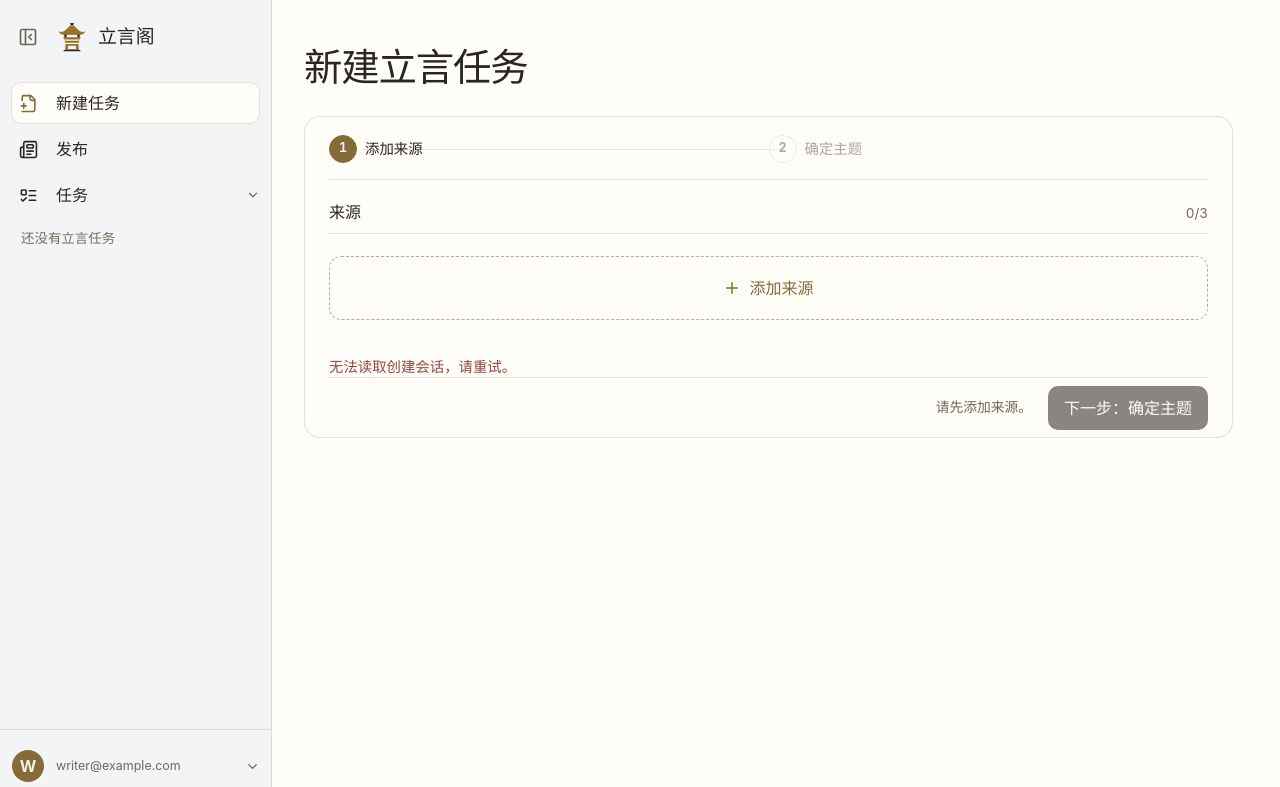
Test case: a session that outlives its access token › signs each request with the session's current token, not sign-in's
Check: the navigation bar named "主导航" is shown, box x1=0 y1=74 x2=271 y2=174
Click the link "发布". click: click(53, 149)
box: x1=18 y1=139 x2=88 y2=159
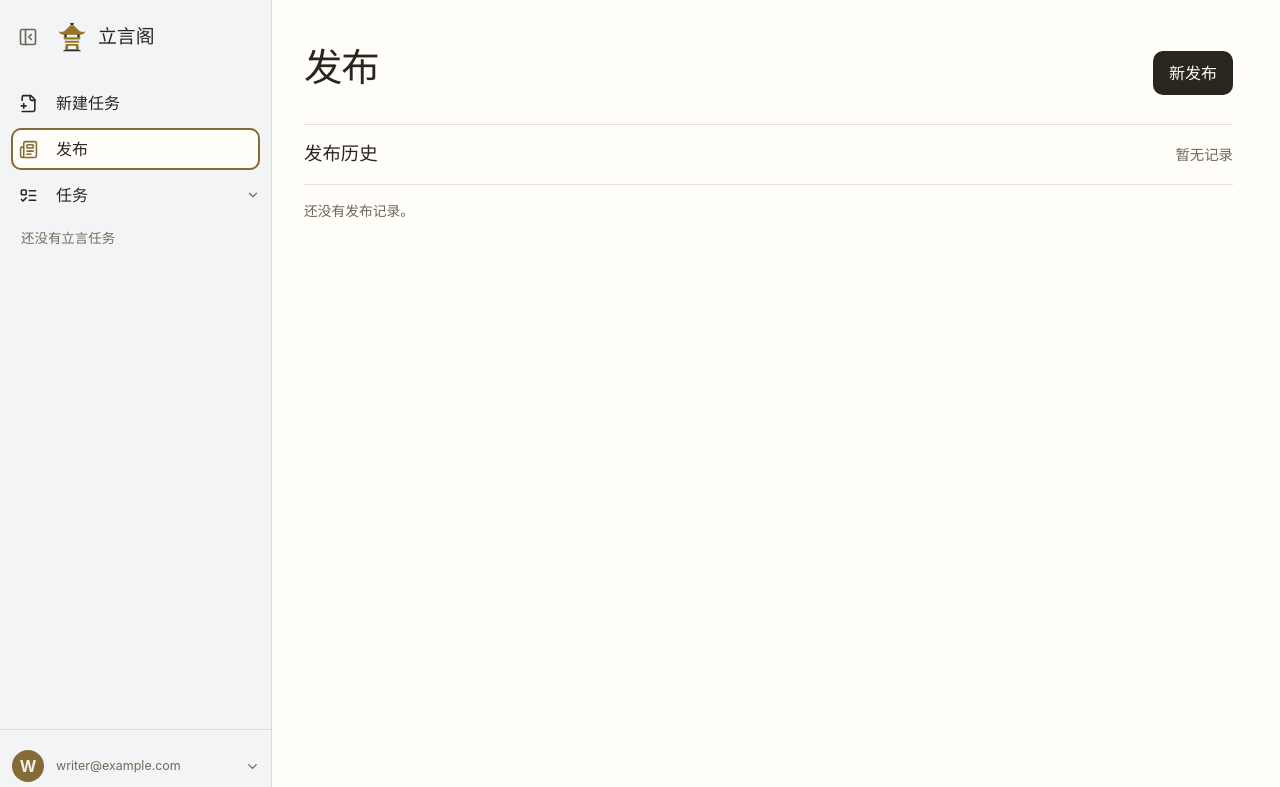
Click the button "新发布". click: click(1193, 73)
box: x1=1153 y1=51 x2=1233 y2=95
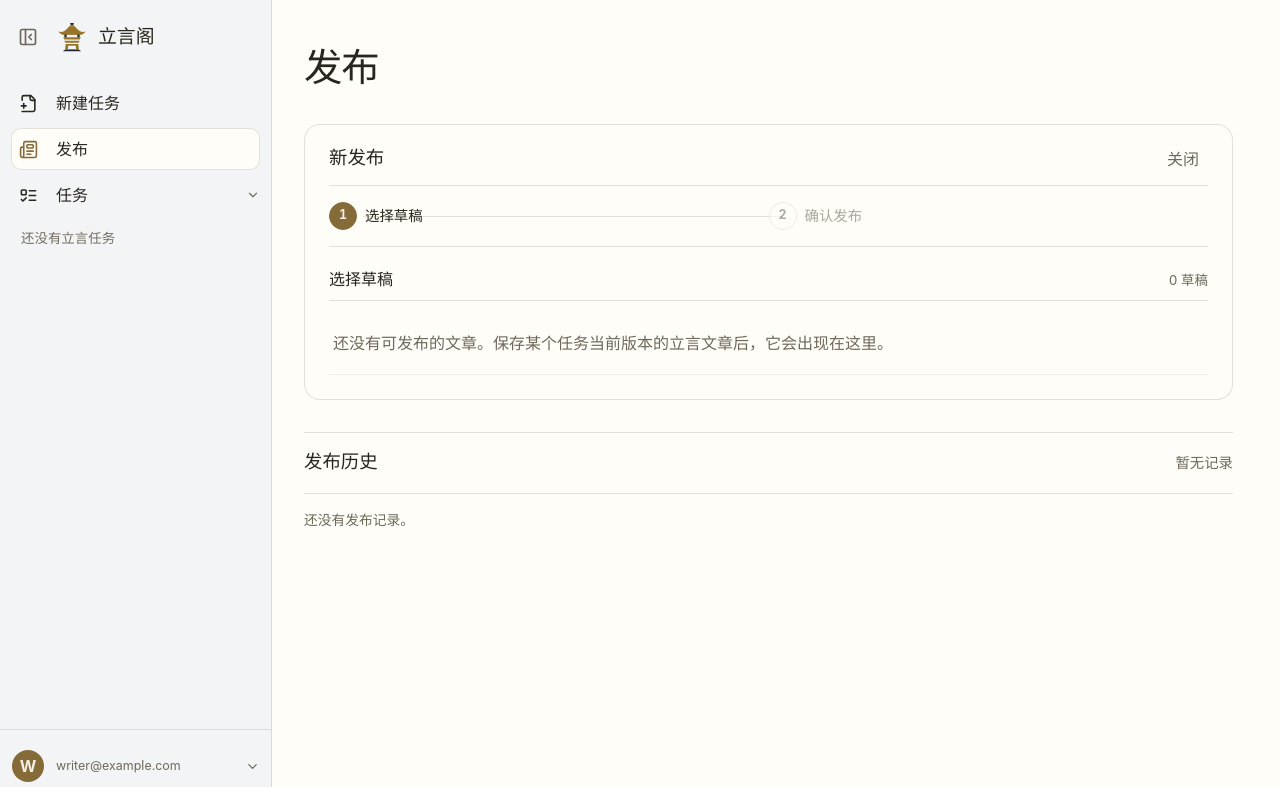
Check: the heading "选择草稿" is shown, box x1=329 y1=268 x2=393 y2=292
